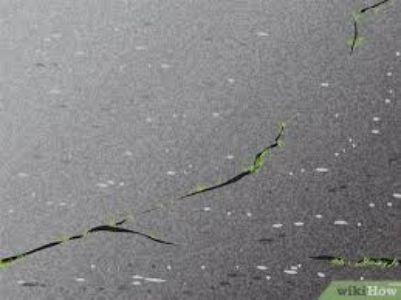crack: (3, 218, 179, 267), (177, 127, 288, 196), (313, 245, 395, 279), (347, 1, 387, 54)
